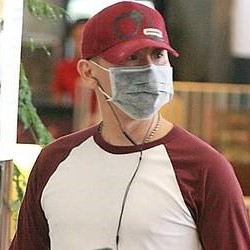mask: (87, 57, 173, 119)
